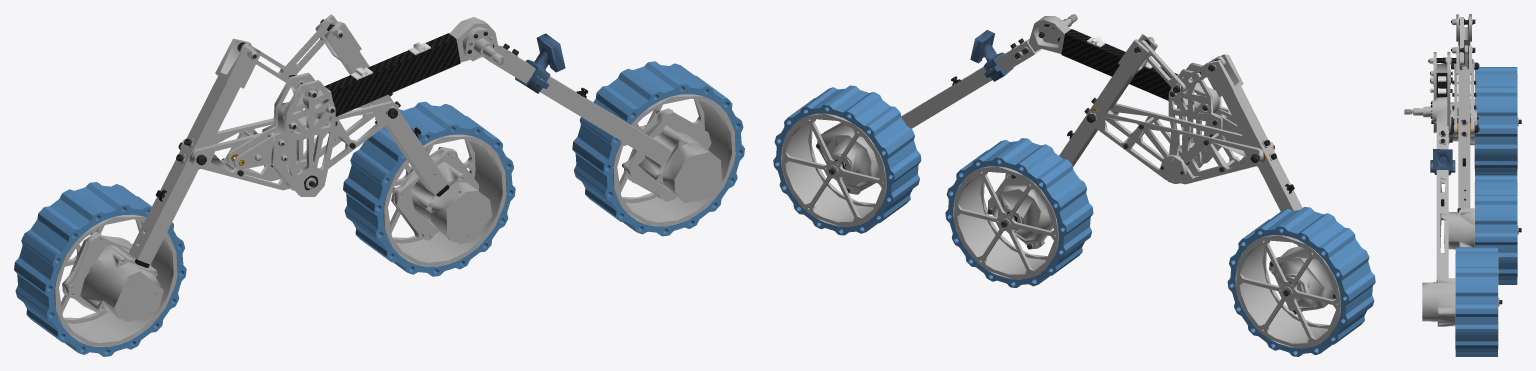
Rendered from suspension.glb.
3 renders of one model, left to right at view 1: azimuth 30°, elevation 25°; view 2: azimuth 150°, elevation 25°; view 3: azimuth 270°, elevation 25°, orthographic. The views are drawn at different scales.
Parts seen in each view (by area): view 1: 098057_A;1-1_4-20 X 3_4 Bolt.010 (×3), 116999_A;1, 117037_A;1, 117080_A;1, 117100_A;1, 098165_A;1-MRVR26.MOB.SUSP.CRANK_LINK.001; view 2: 098057_A;1-1_4-20 X 3_4 Bolt.010 (×3), 116999_A;1, 117100_A;1, 117037_A;1, 117080_A;1, 098165_A;1-MRVR26.MOB.SUSP.CRANK_LINK.001; view 3: 098057_A;1-1_4-20 X 3_4 Bolt.010 (×3), 116999_A;1, 117080_A;1, 117100_A;1, 117037_A;1, 098165_A;1-MRVR26.MOB.SUSP.CRANK_LINK.
Boxes of the visible parts, x1,y1,x2,y2 form: 098057_A;1-1_4-20 X 3_4 Bolt.010 (×3): (14,61,744,356); 116999_A;1: (227,17,722,203); 117037_A;1: (62,38,261,321); 117080_A;1: (315,14,492,243); 117100_A;1: (178,101,398,190); 098165_A;1-MRVR26.MOB.SUSP.CRANK_LINK.001: (285,19,335,73); 098057_A;1-1_4-20 X 3_4 Bolt.010 (×3): (773,85,1375,356); 116999_A;1: (816,14,1246,194); 117100_A;1: (1086,103,1274,184); 117037_A;1: (1204,54,1335,314); 117080_A;1: (987,34,1157,249); 098165_A;1-MRVR26.MOB.SUSP.CRANK_LINK.001: (1139,40,1185,94); 098057_A;1-1_4-20 X 3_4 Bolt.010 (×3): (1455,67,1521,356); 116999_A;1: (1404,52,1472,326); 117080_A;1: (1444,45,1475,249); 117100_A;1: (1431,59,1479,136); 117037_A;1: (1448,14,1475,145); 098165_A;1-MRVR26.MOB.SUSP.CRANK_LINK: (1460,17,1463,65).
Bounding box in the file's own units: 113 × 46.02 × 24.79.
Materials: 27 (1 with a texture image).
